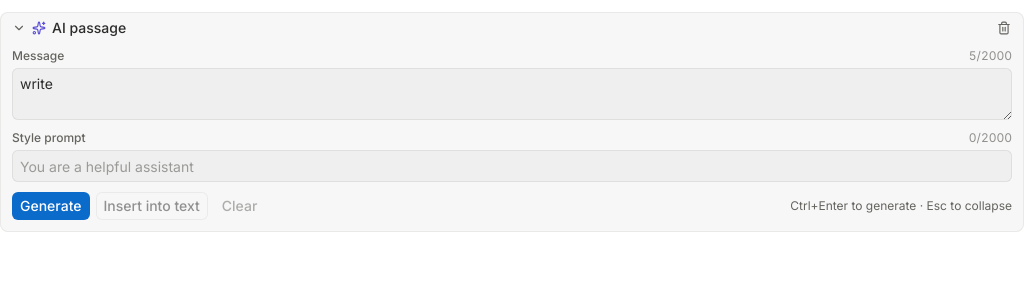
Scenario: AiBeatInline › streams tokens into the output and keeps them
Click the button "Generate" at coordinates (51, 206), box 12,192 -> 90,220
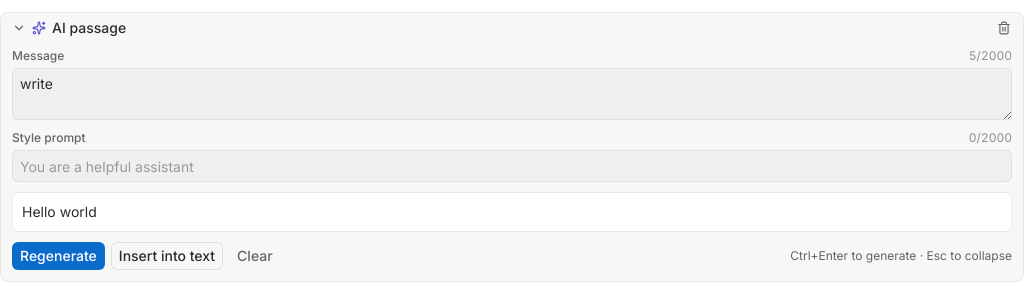
Check: the text "Hello world" is shown, box 12,192 -> 1012,232
